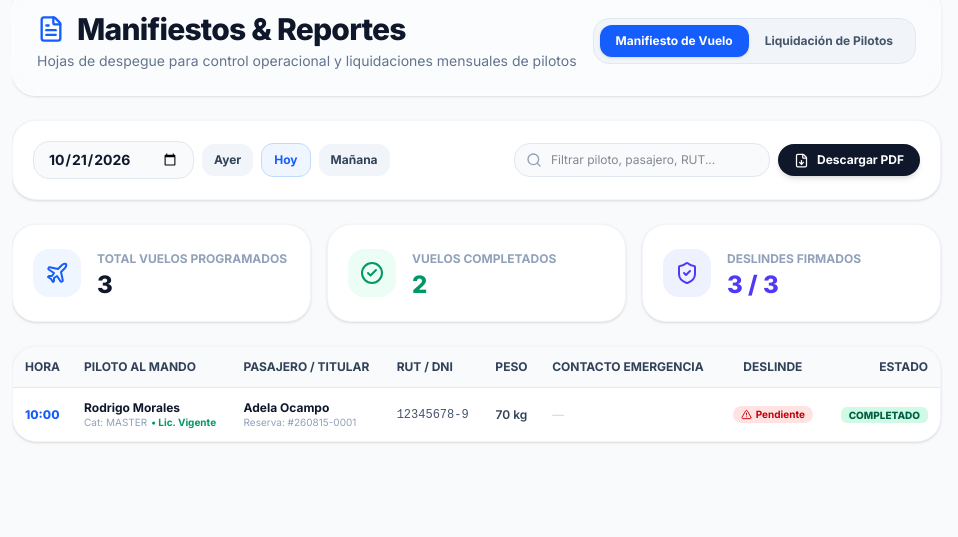
Scenario: Página de Reportes (/reportes) - Pruebas Unitarias y de Componente › 2. Debe permitir cambiar a la pestaña de Liquidaciones de Pilotos
This screenshot has width=958, height=537.
What coordinates should you click on to do the following:
click the button "Liquidación de Pilotos"
I would click on:
 (829, 41)
Its box is left=749, top=25, right=909, bottom=57.
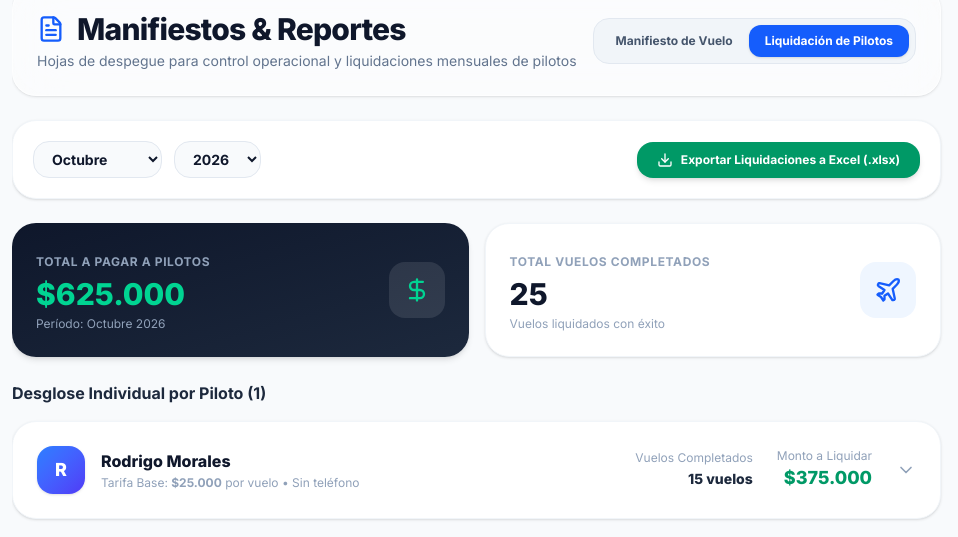
Check: the heading "Rodrigo Morales" is shown, box left=101, top=451, right=231, bottom=471
Check: the heading "Desglose Individual por Piloto (1)" is shown, box left=12, top=383, right=266, bottom=403
